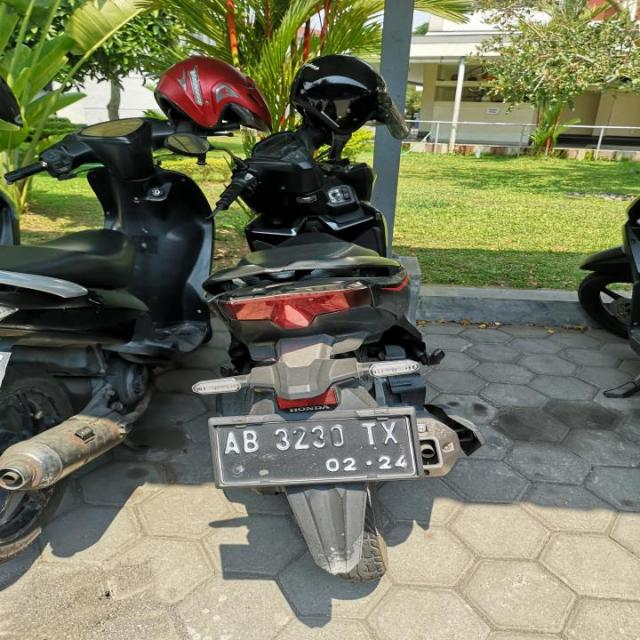License Plate: (212, 408, 420, 489)
